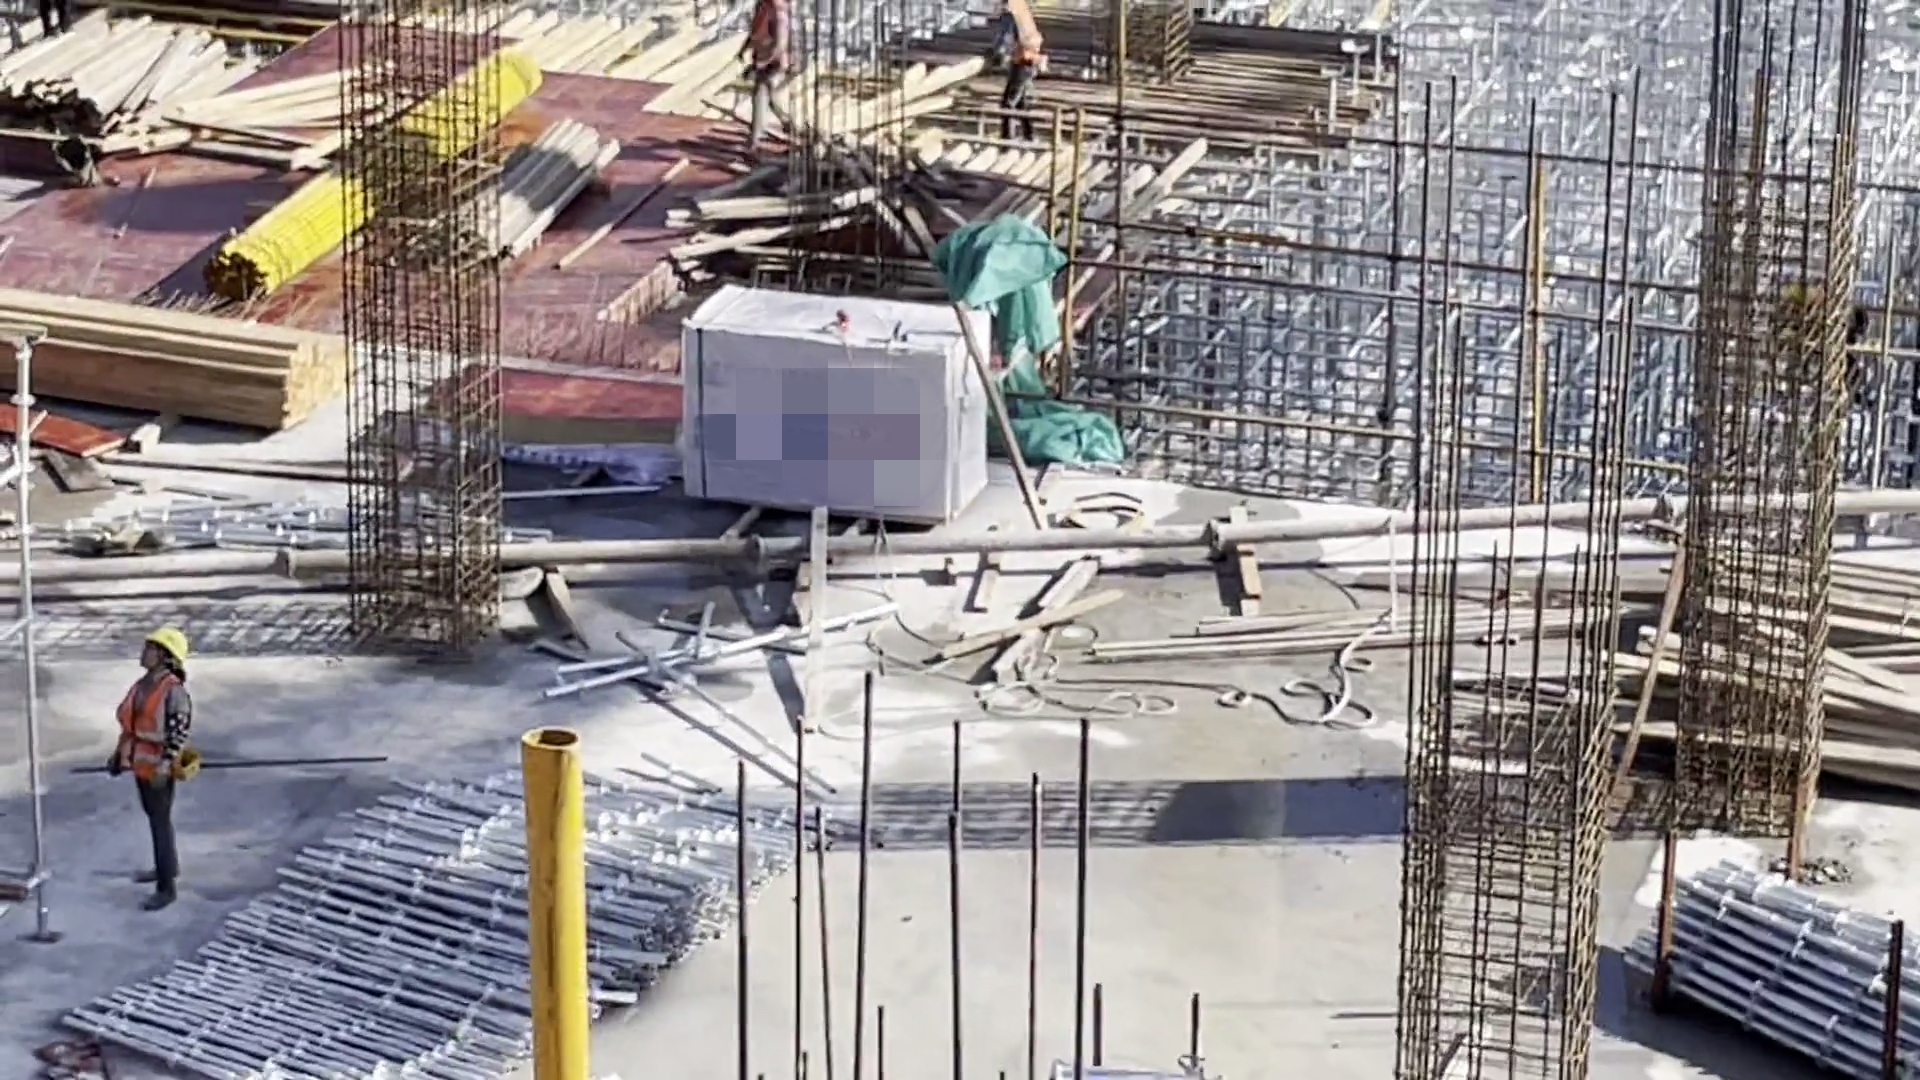helmet: (147, 630, 185, 661)
person: (120, 629, 198, 908), (736, 3, 793, 158), (980, 1, 1044, 137)
scaffold: (1650, 869, 1920, 1071)
vest: (115, 684, 171, 777), (747, 12, 782, 83), (1000, 6, 1039, 69)
wood: (1, 303, 333, 429)
